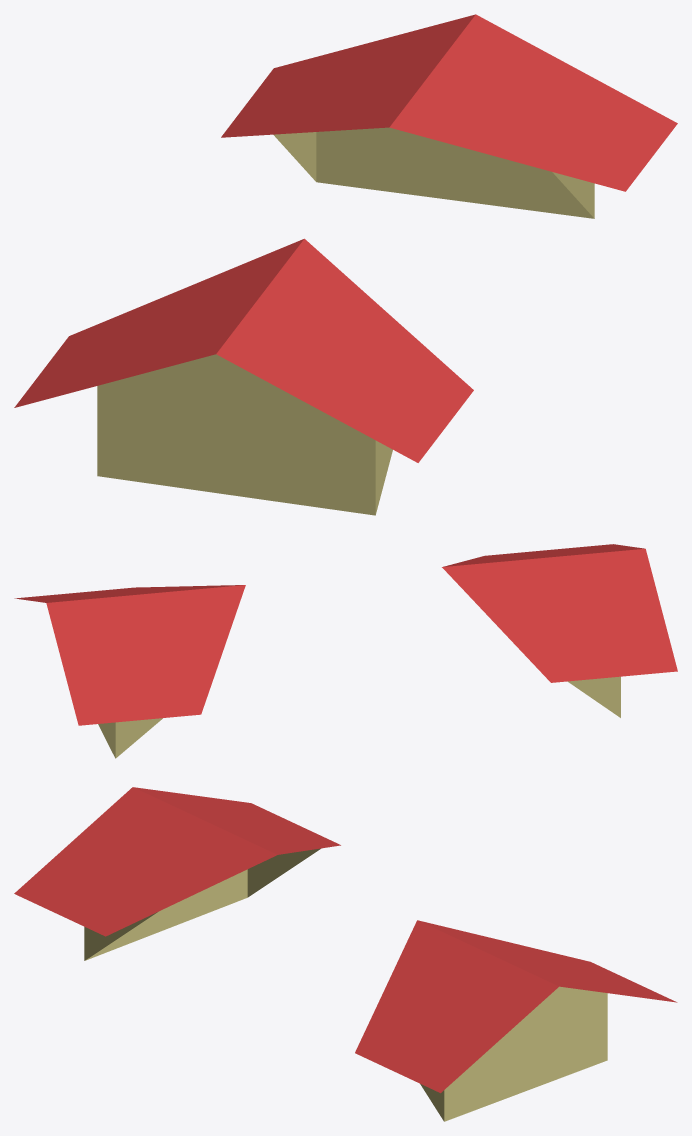
The picture shows the model from 3 angles, top to bottom: view 1: azimuth 30°, elevation 25°; view 2: azimuth 150°, elevation 25°; view 3: azimuth 270°, elevation 25°; orthographic projection. The views are drawn at different scales.
Parts seen in each view (by area): view 1: group_3, group_5, group_4; view 2: group_3, group_5, group_4; view 3: group_3, group_5, group_4.
Boxes of the visible parts, <box> form: group_3: <box>14,14,677,462</box>; group_5: <box>97,127,594,515</box>; group_4: <box>16,79,677,460</box>; group_3: <box>14,544,677,725</box>; group_5: <box>98,676,620,758</box>; group_4: <box>22,545,676,707</box>; group_3: <box>14,787,677,1093</box>; group_5: <box>84,848,607,1121</box>; group_4: <box>16,804,603,1091</box>.
Bounding box in the file's own units: 10.33 × 9.99 × 2.11.
